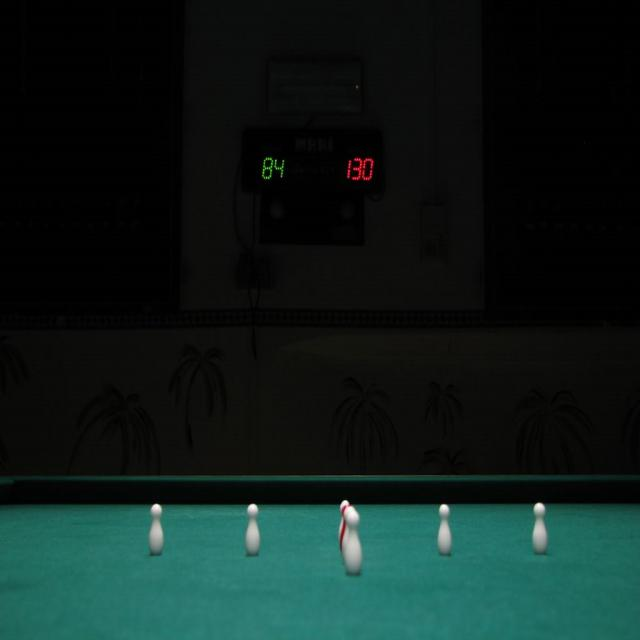Billiard table: (0, 448, 640, 640)
